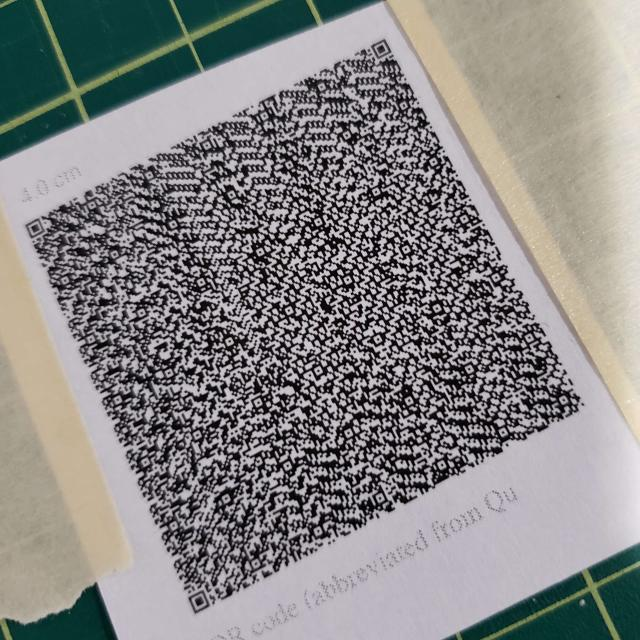QR_CODE: (16, 25, 605, 620)
